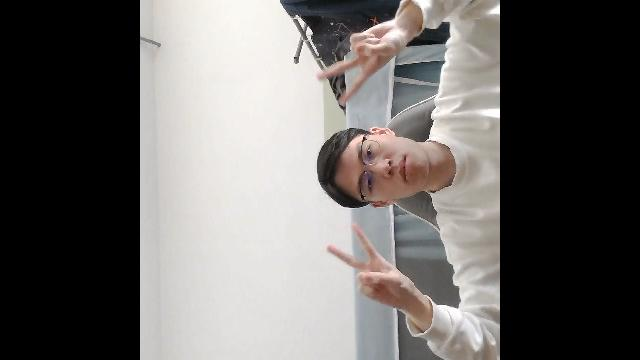yes: (323, 214, 427, 320), (314, 18, 412, 110)
